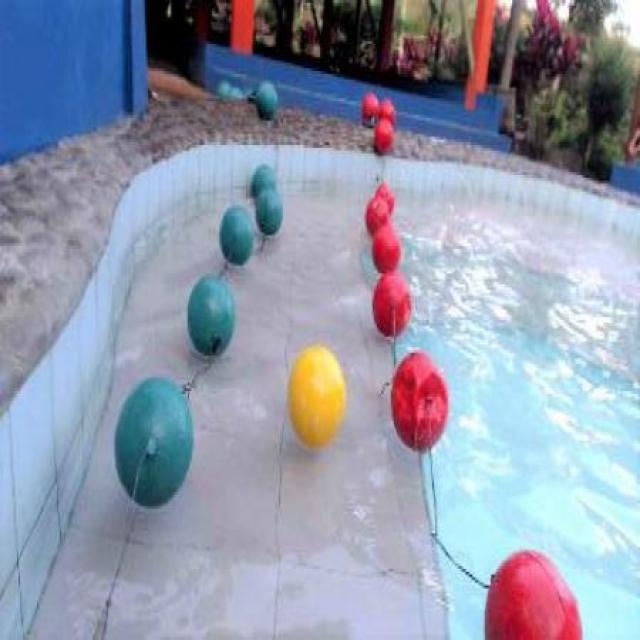buoy: (114, 378, 193, 508), (484, 544, 584, 638), (288, 342, 346, 446), (389, 348, 447, 452), (185, 274, 233, 355), (373, 269, 412, 338), (218, 202, 256, 263), (371, 223, 401, 275), (255, 187, 284, 234), (364, 193, 391, 234), (250, 161, 276, 200), (255, 79, 278, 117), (374, 116, 394, 151), (374, 184, 394, 216), (360, 92, 378, 122), (377, 98, 395, 128)
